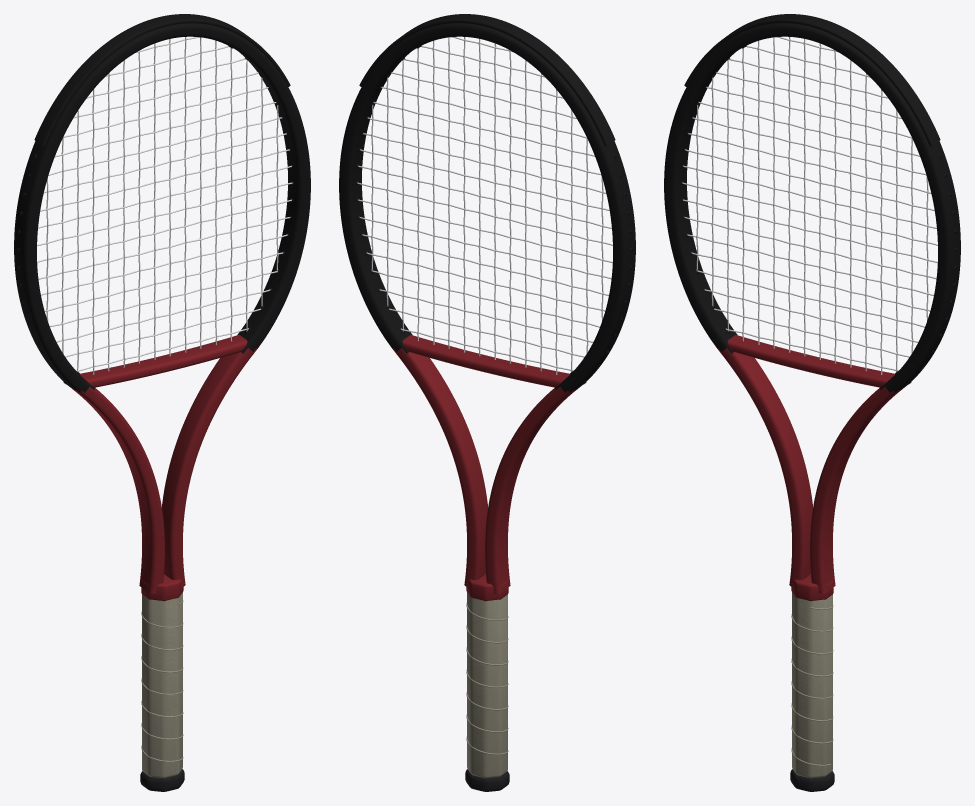
The model's file is wilson-pro-staff-97-v14.glb.
The picture shows the model from 3 angles, left to right: view 1: azimuth 30°, elevation 25°; view 2: azimuth 150°, elevation 25°; view 3: azimuth 330°, elevation 25°; orthographic projection.
Visible parts, largest first — view 1: Frame, Strings, Handle, Bumper, Yoke, GripSeam, Collar, ButtCap; view 2: Frame, Strings, Handle, Bumper, Yoke, GripSeam, Collar, ButtCap; view 3: Frame, Strings, Handle, Bumper, Yoke, GripSeam, Collar, ButtCap.
Boxes of the visible parts, bbox=[...] form: Frame: bbox=[14, 23, 310, 593]; Strings: bbox=[37, 37, 292, 374]; Handle: bbox=[142, 592, 182, 778]; Bumper: bbox=[34, 14, 290, 146]; Yoke: bbox=[80, 335, 247, 387]; GripSeam: bbox=[141, 600, 183, 762]; Collar: bbox=[141, 574, 183, 601]; ButtCap: bbox=[140, 769, 184, 791]; Frame: bbox=[339, 23, 635, 593]; Strings: bbox=[357, 37, 612, 374]; Handle: bbox=[467, 592, 507, 778]; Bumper: bbox=[359, 14, 615, 146]; Yoke: bbox=[402, 335, 569, 387]; GripSeam: bbox=[466, 603, 508, 754]; Collar: bbox=[466, 574, 508, 601]; ButtCap: bbox=[465, 769, 509, 791]; Frame: bbox=[664, 23, 960, 593]; Strings: bbox=[682, 37, 937, 374]; Handle: bbox=[792, 592, 832, 778]; Bumper: bbox=[684, 14, 940, 146]; Yoke: bbox=[727, 335, 894, 387]; GripSeam: bbox=[791, 605, 833, 766]; Collar: bbox=[791, 574, 833, 601]; ButtCap: bbox=[790, 769, 834, 791].
Bounding box in the file's own units: 0.2721 × 0.6886 × 0.0327.
Materials: 6 (1 with a texture image).
